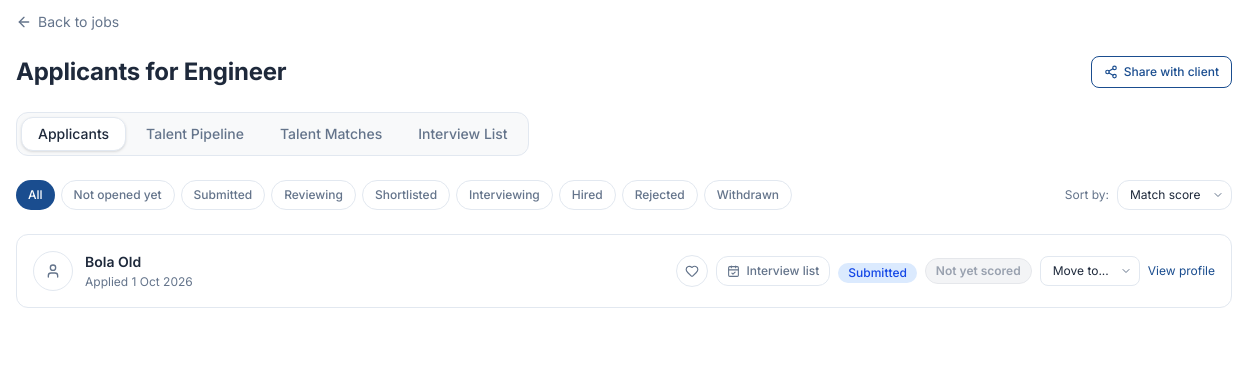
ApplicantsPage, applicants not opened yet › says every applicant has been opened when the tab is empty
This screenshot has width=1249, height=381.
Expected: the text "Bola Old" is shown, [85,253,141,270]
Click the tab with test id "not-opened-tab". click: click(118, 195)
box: [61,180,175,210]
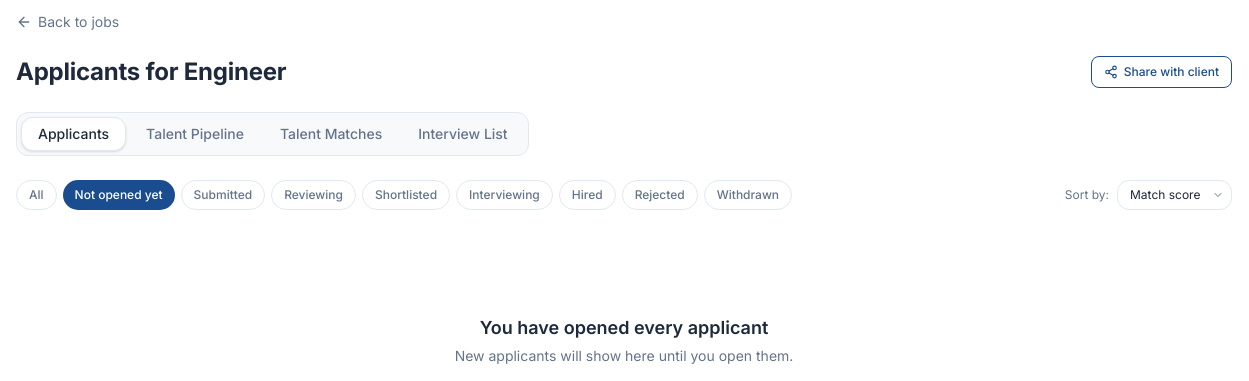
Now the text "You have opened every applicant" is shown, box [480,317,768,338]
